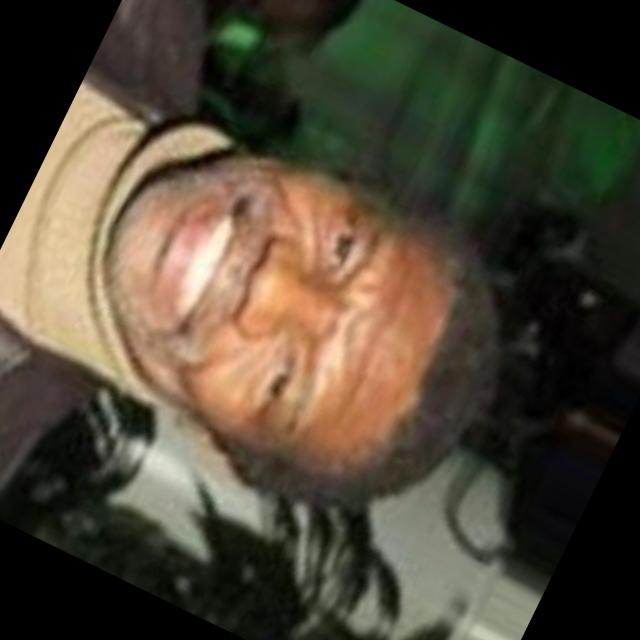bareface: (28, 58, 552, 564)
